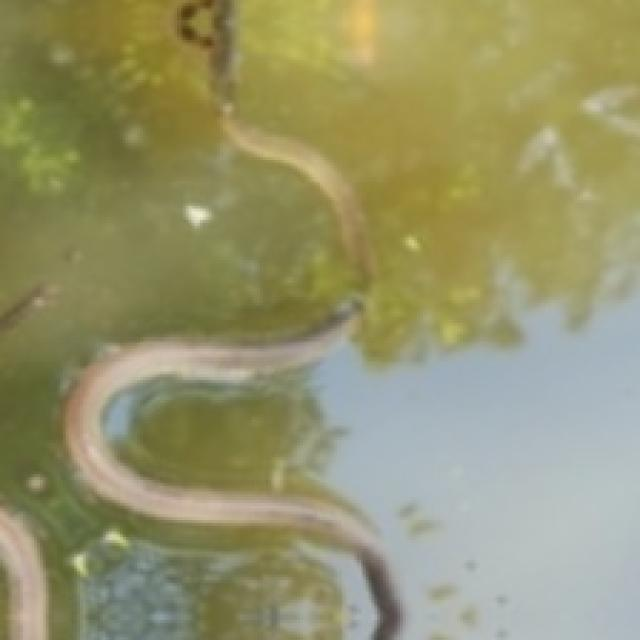gervais worm snake: (65, 0, 401, 639)
